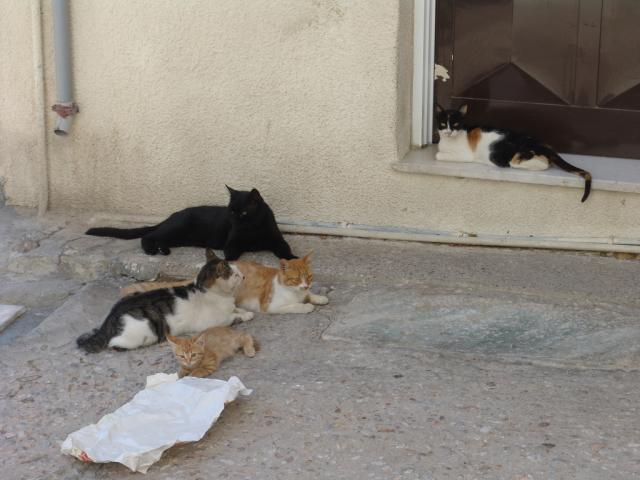Cat: (78, 254, 255, 348), (89, 186, 298, 263), (436, 103, 592, 202), (126, 248, 329, 314), (170, 330, 269, 380)
